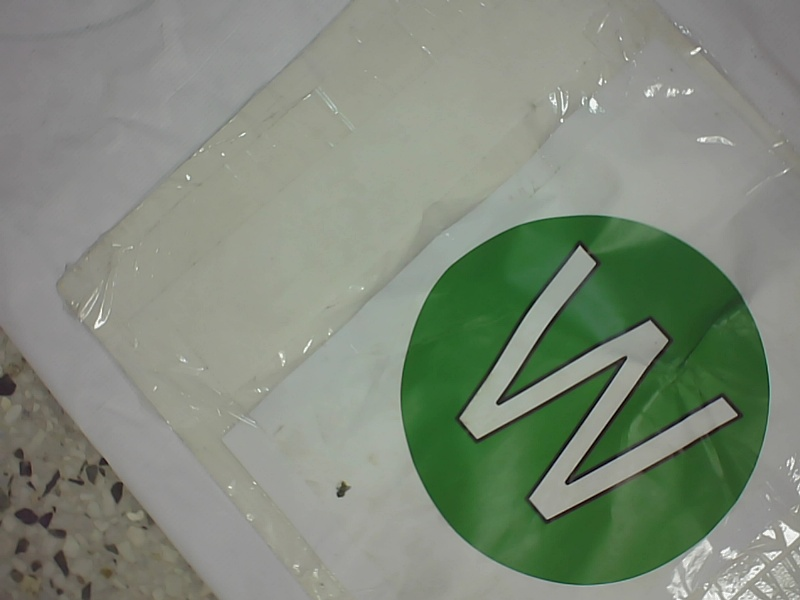areaB: (395, 211, 773, 585)
